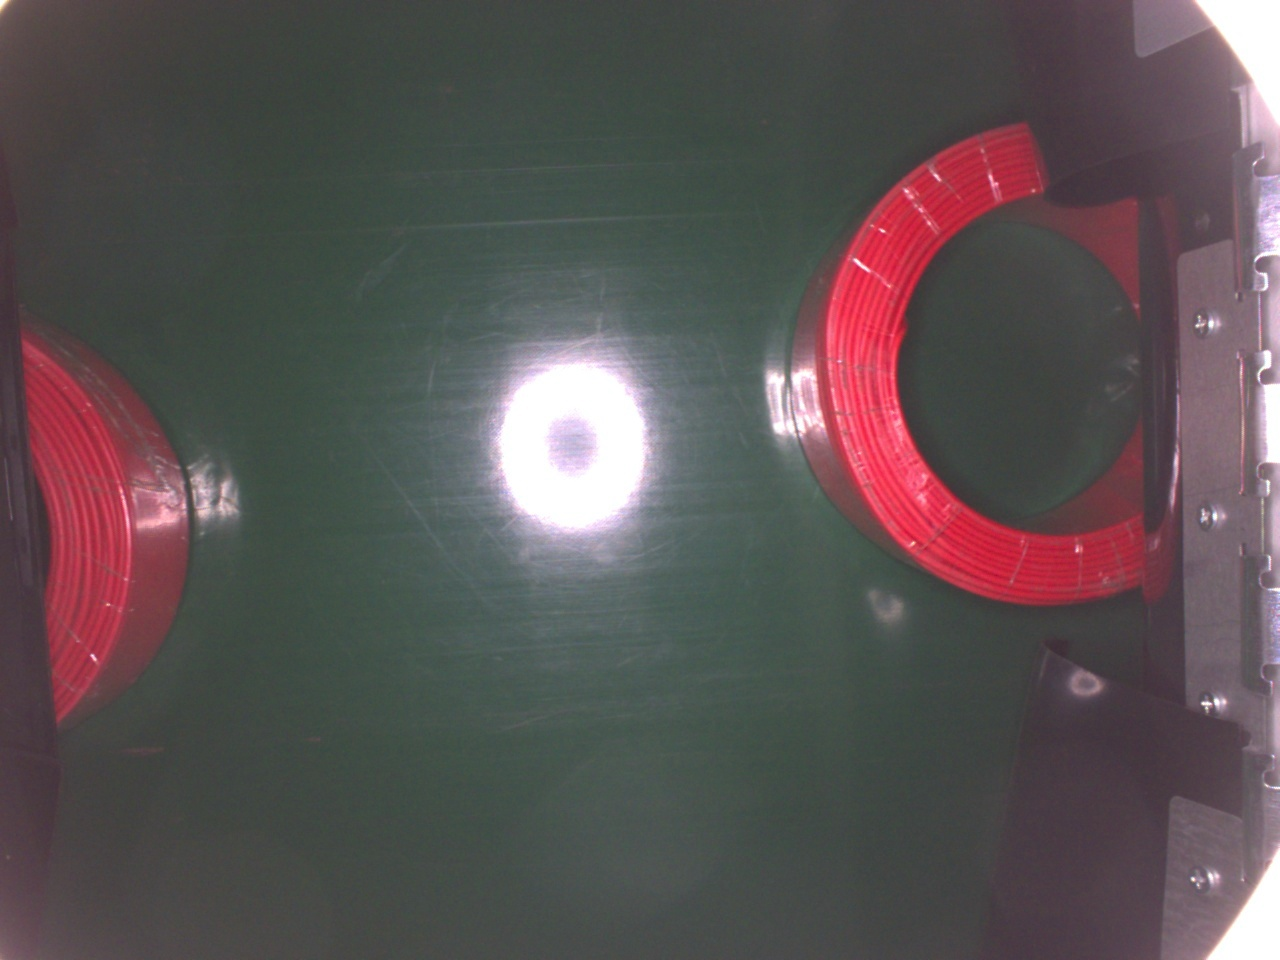red: (787, 121, 1140, 606), (19, 305, 191, 734)
